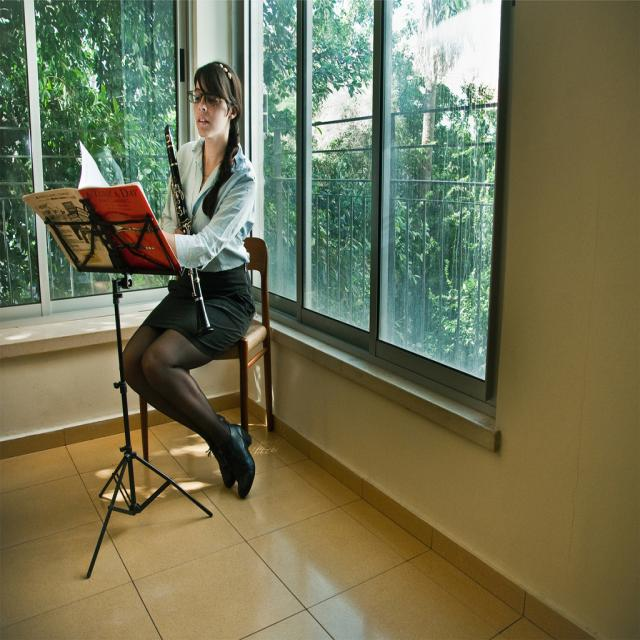clarinet: (159, 120, 217, 342)
